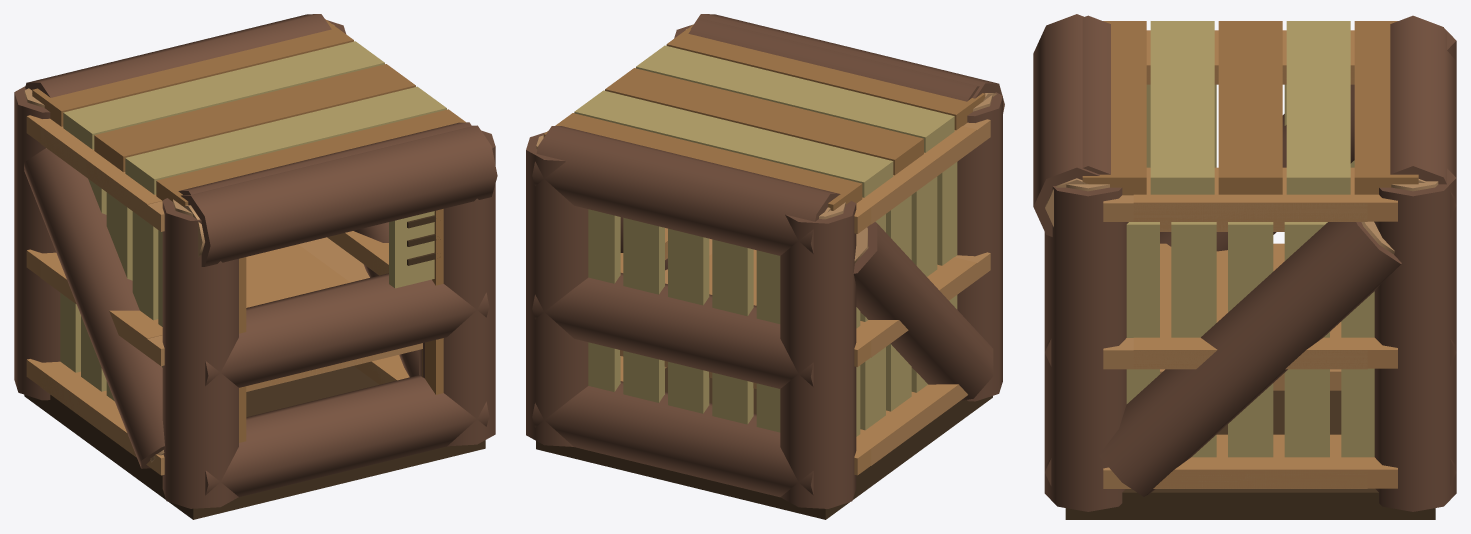
File: small_warehouse.glb
3 views of the same model, side by side, from view 1: azimuth 30°, elevation 25°; view 2: azimuth 150°, elevation 25°; view 3: azimuth 270°, elevation 25° (orthographic). The views are drawn at different scales.
Parts seen in each view (by area): view 1: FrontLintel, Post2, Beam6, Beam10, SideBrace27, Post4, FlatTop42, FlatTop44, FlatTop43, Floor, Post1, Beam13 (+19 smaller); view 2: Post1, Beam13, Beam9, Beam5, Post3, SideBrace27, FlatTop42, FlatTop43, FlatTop44, Post2, Floor, FlatTop45 (+15 smaller); view 3: SideBrace33, Post3, Post4, FlatTop42, FlatTop43, FlatTop44, Beam13, Floor, FrontLintel, Beam16, Beam8, FlatTop41 (+14 smaller).
Boxes of the visible parts, bbox=[...] form: FrontLintel: bbox=[181, 125, 497, 266]; Post2: bbox=[162, 198, 238, 508]; Beam6: bbox=[205, 375, 489, 496]; Beam10: bbox=[205, 273, 489, 387]; SideBrace27: bbox=[24, 148, 164, 468]; Post4: bbox=[419, 130, 495, 446]; FlatTop42: bbox=[63, 41, 384, 149]; FlatTop44: bbox=[125, 86, 446, 194]; FlatTop43: bbox=[94, 64, 415, 172]; Floor: bbox=[24, 366, 485, 519]; Post1: bbox=[14, 86, 60, 400]; Beam13: bbox=[25, 14, 331, 97]; Post1: bbox=[780, 201, 856, 508]; Beam13: bbox=[532, 126, 840, 255]; Beam9: bbox=[532, 273, 813, 388]; Beam5: bbox=[532, 381, 813, 497]; Post3: bbox=[526, 132, 588, 446]; SideBrace27: bbox=[853, 222, 993, 400]; FlatTop42: bbox=[574, 90, 893, 197]; FlatTop43: bbox=[605, 68, 923, 175]; FlatTop44: bbox=[636, 45, 954, 152]; Post2: bbox=[957, 92, 1002, 401]; Floor: bbox=[536, 367, 992, 519]; FlatTop45: bbox=[666, 24, 985, 130]; SideBrace33: bbox=[1099, 221, 1401, 496]; Post3: bbox=[1374, 168, 1456, 511]; Post4: bbox=[1044, 184, 1128, 511]; FlatTop42: bbox=[1286, 21, 1350, 194]; FlatTop43: bbox=[1218, 21, 1282, 194]; FlatTop44: bbox=[1150, 21, 1214, 194]; Beam13: bbox=[1390, 15, 1456, 218]; Floor: bbox=[1065, 390, 1435, 519]; FrontLintel: bbox=[1033, 14, 1099, 236]; Beam16: bbox=[1103, 167, 1397, 221]; Beam8: bbox=[1103, 434, 1397, 488]; FlatTop41: bbox=[1354, 21, 1418, 194].
Bounding box in the file's own units: 1.16 × 1.03 × 1.12.
